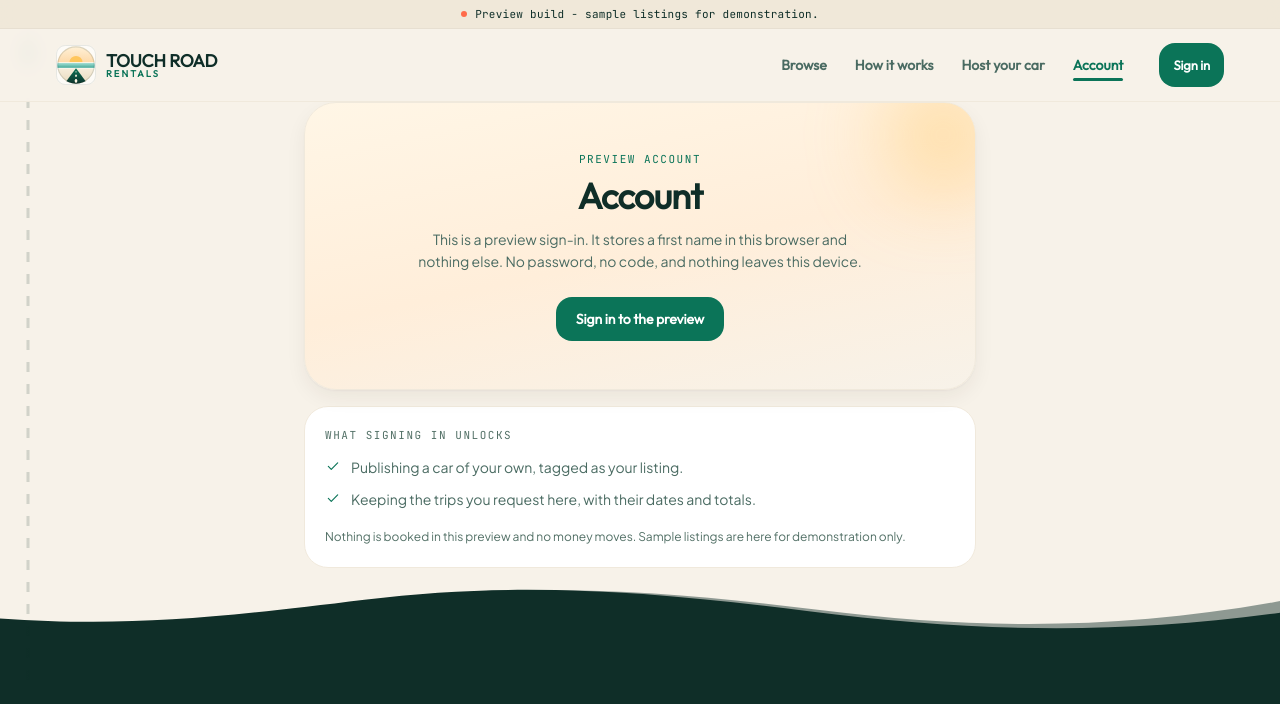
Test case: switching sides › turns a guest into a host on request
The width and height of the screenshot is (1280, 704).
Click the button "Sign in to the preview" at (640, 319), box 556,297 -> 724,341
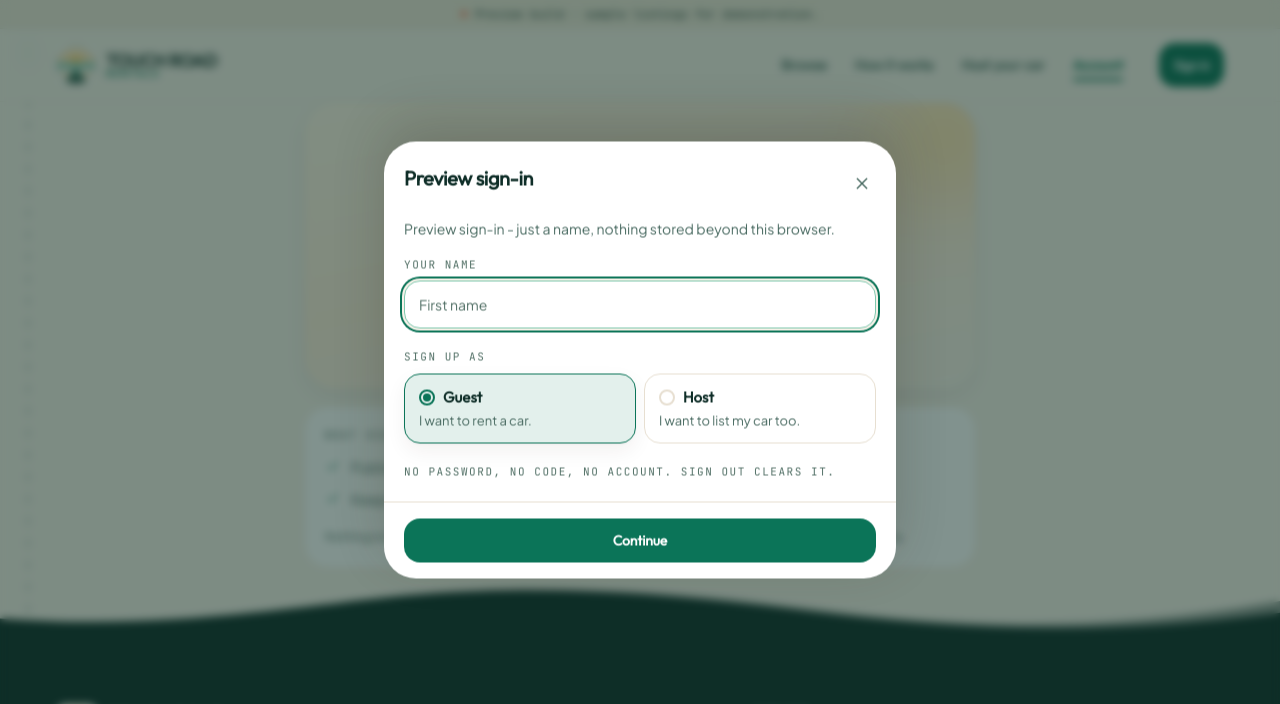
Type "Danny" into the field with test id "auth-name-input" at (640, 305), box 404,281 -> 876,329
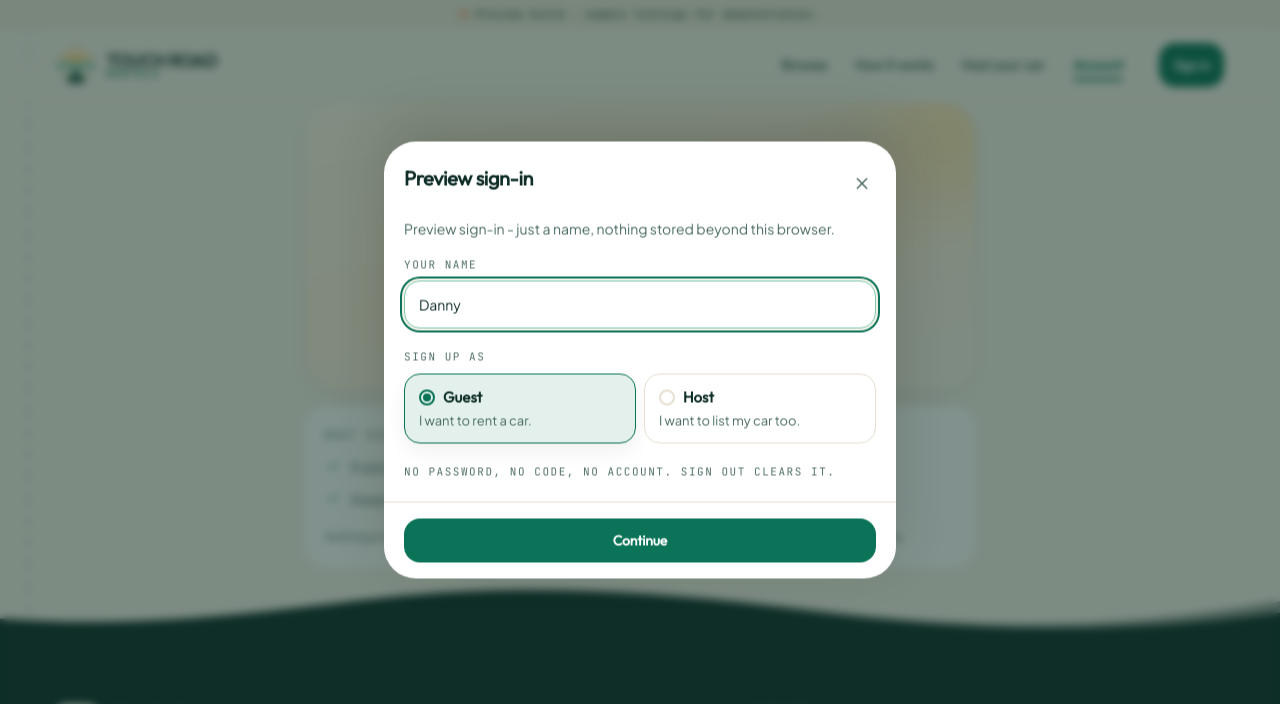
Click the radio button with test id "role-guest" at (520, 408), box 404,373 -> 636,444
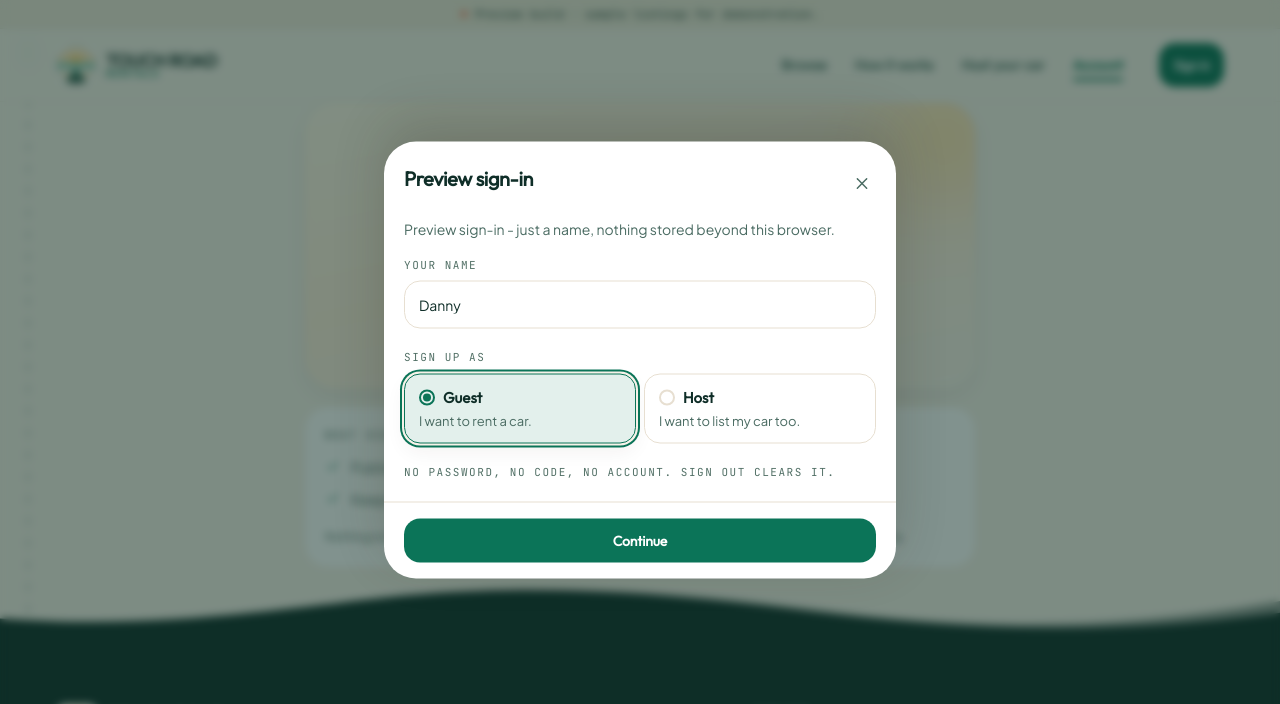
Click the button with test id "auth-submit" at (640, 540), box 404,518 -> 876,562
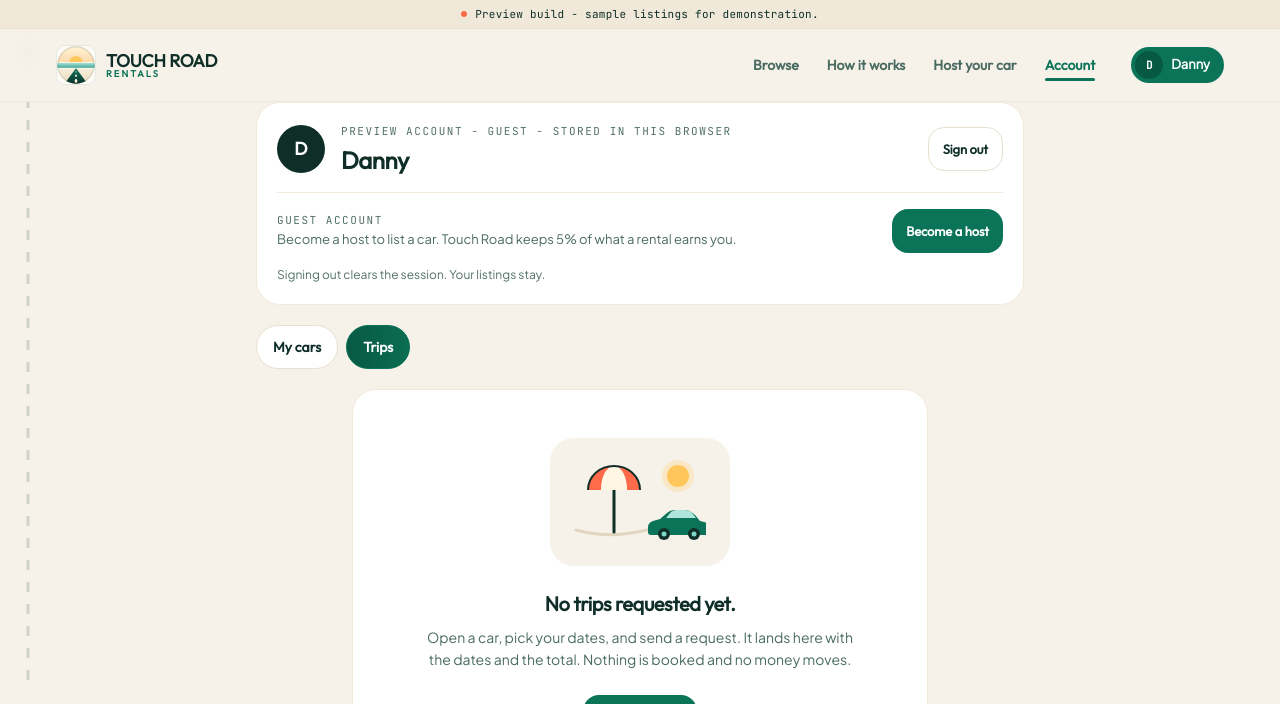
Click the button with test id "become-host" at (948, 230), box 892,208 -> 1003,252
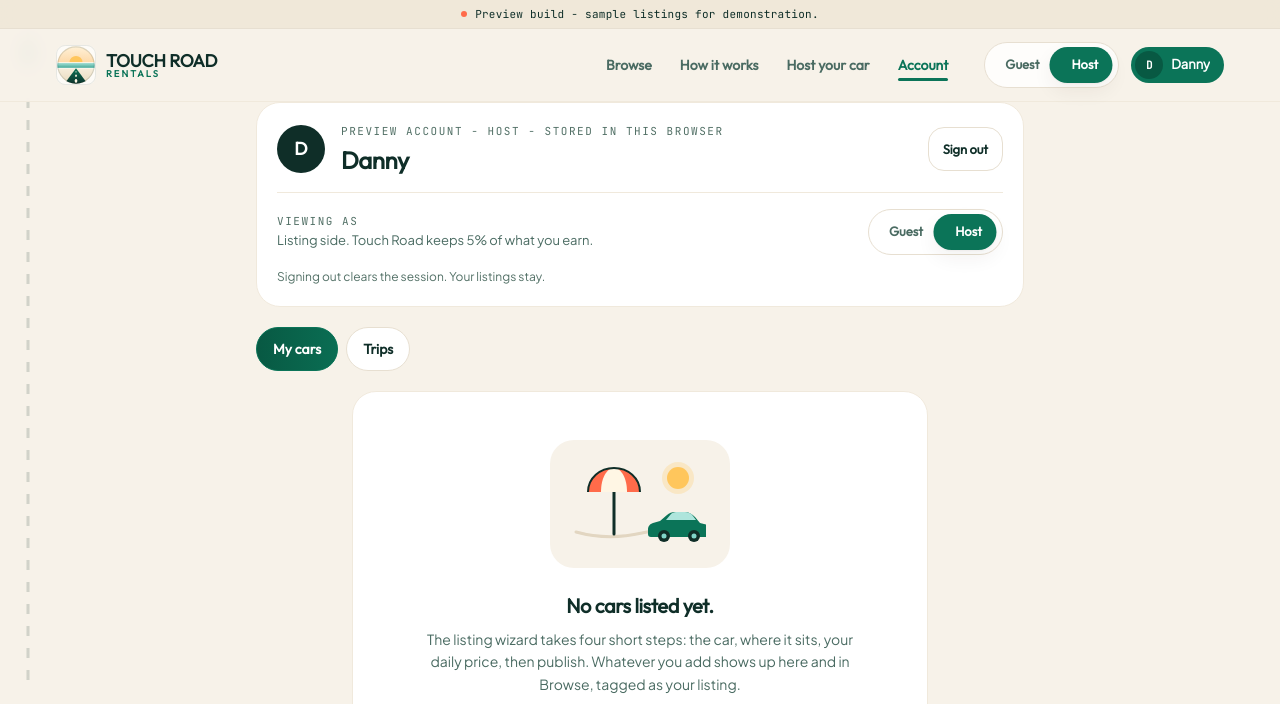
Check: the element with test id "mode-switch-account" is shown, box 868,208 -> 1003,254
Check: the button with test id "become-host" is gone
